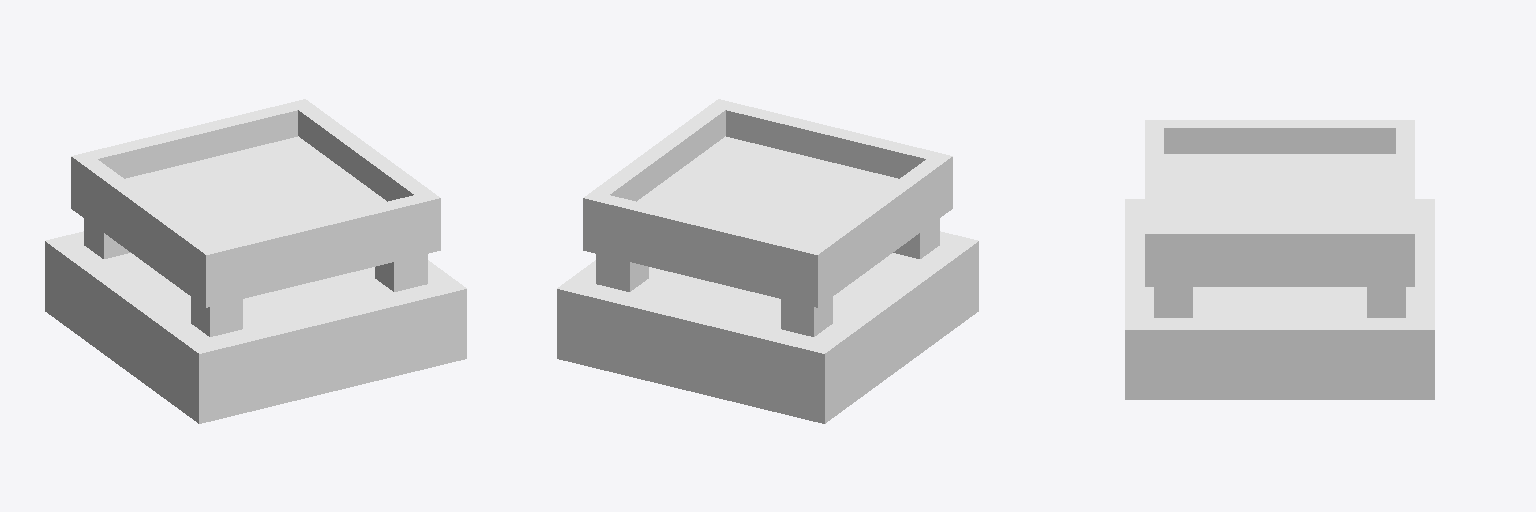
File: table_sieve.obj
3 views of the same model, side by side, from view 1: azimuth 30°, elevation 25°; view 2: azimuth 150°, elevation 25°; view 3: azimuth 270°, elevation 25° (orthographic).
Visible parts, largest first — view 1: model; view 2: model; view 3: model.
Part boxes in pixels (x1,y1,x2,y2): model: (45, 99, 466, 423); model: (557, 99, 978, 423); model: (1125, 120, 1434, 399).
Bounding box in the file's own units: 1 × 0.5625 × 1.